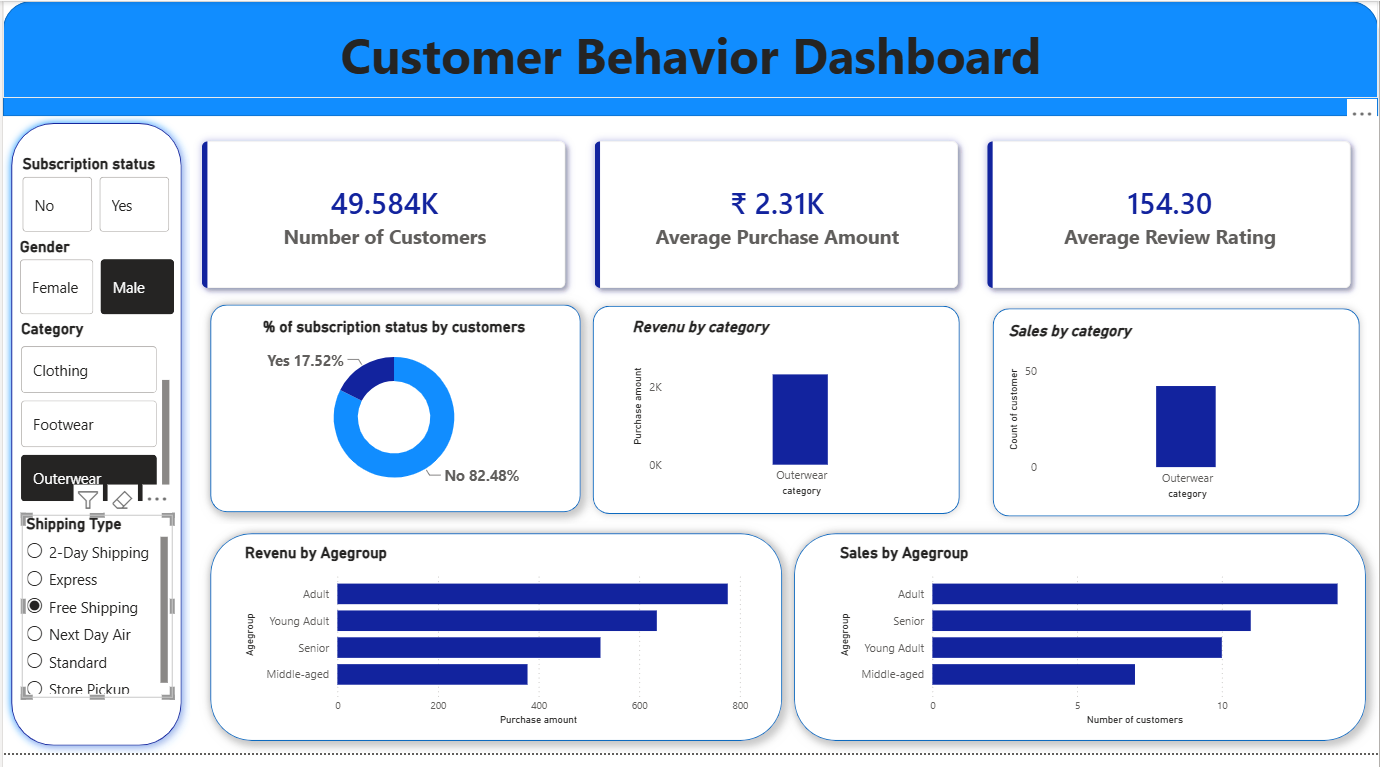

Layout of this report page (visuals, bound fields, positions):
{"tool":"powerbi","page":{"name":"Page 1","canvas":[1500,820],"ordinal":0},"visuals":[{"type":"cardVisual","fields":{"Data":["Sum(customer_behavior_cleaned (1).customer_id)","Sum(customer_behavior_cleaned (1).purchase_amount)","Sum(customer_behavior_cleaned (1).review_rating)"]},"box":[188.5,123.9,1310.8,218.2],"z":0},{"type":"shape","box":[0,0,1499.3,125.7],"z":1000},{"type":"textbox","box":[0,0,1499.3,106.5],"z":2000},{"type":"shape","box":[212.4,317.1,430.5,253.1],"z":3000},{"type":"donutChart","title":"% of subscription status by customers","fields":{"Category":["customer_behavior_cleaned (1).subscription_status"],"Y":["Sum(customer_behavior_cleaned (1).customer_id)"]},"box":[244.4,344.7,365.1,199.3],"z":4000},{"type":"shape","box":[0,123.6,203.6,696.7],"z":7000},{"type":"advancedSlicerVisual","title":"Subscription status","fields":{"Values":["customer_behavior_cleaned (1).subscription_status"]},"box":[16,167.3,171.6,90.2],"z":8000},{"type":"advancedSlicerVisual","title":"Gender","fields":{"Values":["customer_behavior_cleaned (1).gender"]},"box":[13.1,257.5,178.9,90.2],"z":9000},{"type":"advancedSlicerVisual","title":"Category","fields":{"Values":["customer_behavior_cleaned (1).category"]},"box":[14.5,347.6,171.6,199.3],"z":10000},{"type":"listSlicer","title":"Shipping Type","fields":{"Values":["customer_behavior_cleaned (1).shipping_type"]},"box":[20.4,560,164.4,200.7],"z":11000},{"type":"shape","box":[849.5,567.3,650.2,253.1],"z":14000},{"type":"clusteredBarChart","title":"Sales by Agegroup","fields":{"Y":["CountNonNull(customer_behavior_cleaned (1).customer_id)"],"Category":["customer_behavior_cleaned (1).age_group"]},"box":[907.6,592,558.5,203.6],"z":15000},{"type":"shape","box":[635.6,324.4,416,242.9],"z":16000},{"type":"shape","box":[1070.5,327.3,416,242.9],"z":16001},{"type":"clusteredColumnChart","title":"  Revenu by category","fields":{"Y":["Sum(customer_behavior_cleaned (1).purchase_amount)"],"Category":["customer_behavior_cleaned (1).category"]},"box":[680.7,344.7,337.5,200.7],"z":16002},{"type":"clusteredColumnChart","title":"  Sales  by category","fields":{"Y":["CountNonNull(customer_behavior_cleaned (1).customer_id)"],"Category":["customer_behavior_cleaned (1).category"]},"box":[1090.9,349.1,359.3,199.3],"z":16003},{"type":"shape","box":[212.4,567.3,650.2,253.1],"z":16005},{"type":"clusteredBarChart","title":"Revenu by Agegroup","fields":{"Y":["Sum(customer_behavior_cleaned (1).purchase_amount)"],"Category":["customer_behavior_cleaned (1).age_group"]},"box":[258.9,592,558.5,203.6],"z":16006}]}

Visuals, with their boxes in screenshot pixels (x1, y1, x2, y2), scaled from the page's 1500x820 canvas onto the 1380x767 screenshot:
cardVisual - Sum(customer_behavior_cleaned (1).customer_id) x Sum(customer_behavior_cleaned (1).purchase_amount): <bbox>173, 116, 1379, 320</bbox>
shape: <bbox>0, 0, 1379, 118</bbox>
textbox: <bbox>0, 0, 1379, 100</bbox>
shape: <bbox>195, 297, 591, 533</bbox>
"% of subscription status by customers" donutChart: <bbox>225, 322, 561, 509</bbox>
shape: <bbox>0, 116, 187, 766</bbox>
"Subscription status" advancedSlicerVisual: <bbox>15, 156, 173, 241</bbox>
"Gender" advancedSlicerVisual: <bbox>12, 241, 177, 325</bbox>
"Category" advancedSlicerVisual: <bbox>13, 325, 171, 512</bbox>
"Shipping Type" listSlicer: <bbox>19, 524, 170, 712</bbox>
shape: <bbox>782, 531, 1379, 766</bbox>
"Sales by Agegroup" clusteredBarChart: <bbox>835, 554, 1349, 744</bbox>
shape: <bbox>585, 303, 967, 531</bbox>
shape: <bbox>985, 306, 1368, 533</bbox>
"  Revenu by category" clusteredColumnChart: <bbox>626, 322, 937, 510</bbox>
"  Sales  by category" clusteredColumnChart: <bbox>1004, 327, 1334, 513</bbox>
shape: <bbox>195, 531, 794, 766</bbox>
"Revenu by Agegroup" clusteredBarChart: <bbox>238, 554, 752, 744</bbox>
